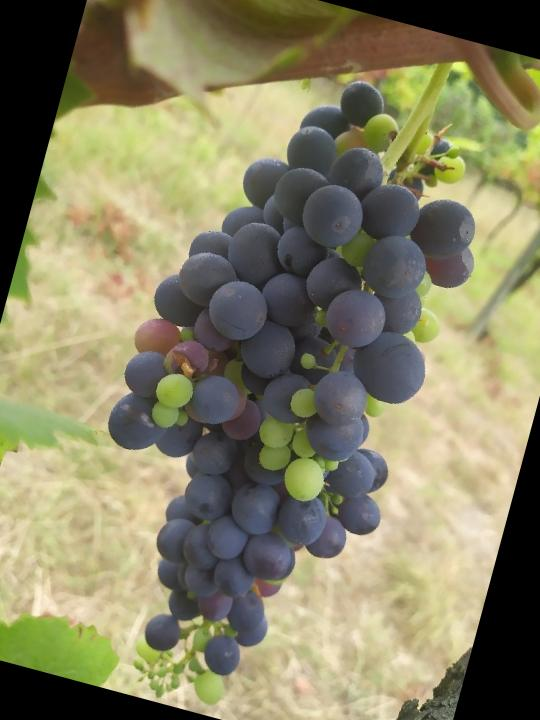grape: (41, 39, 514, 720)
